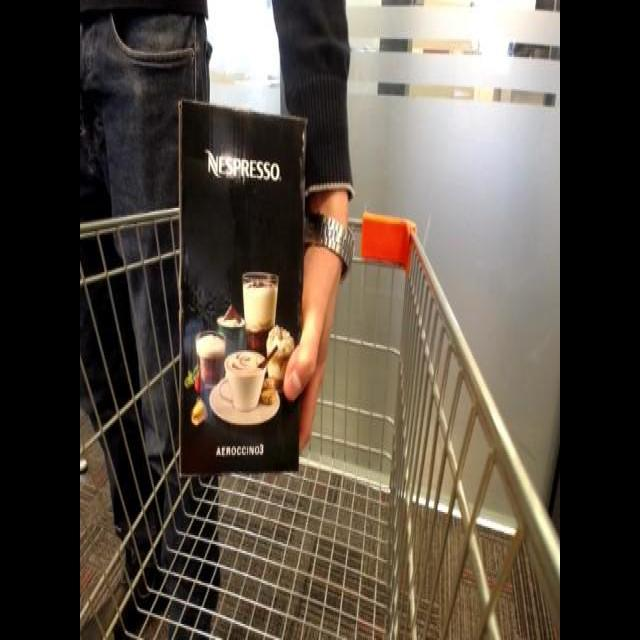Nespresso: (157, 87, 330, 491)
